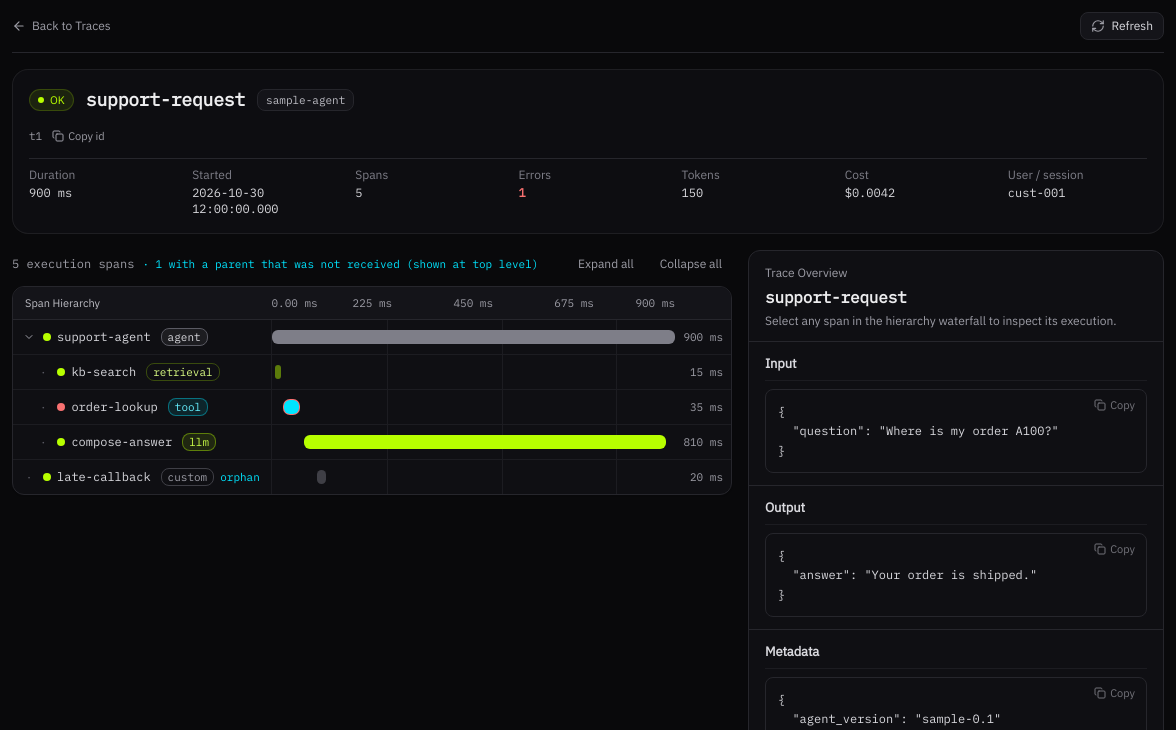
TraceDetailPage › shows LLM, tool, error and retrieval details only where present
This screenshot has width=1176, height=730.
Click the text "compose-answer".
click(122, 442)  # box [71,434,172,450]
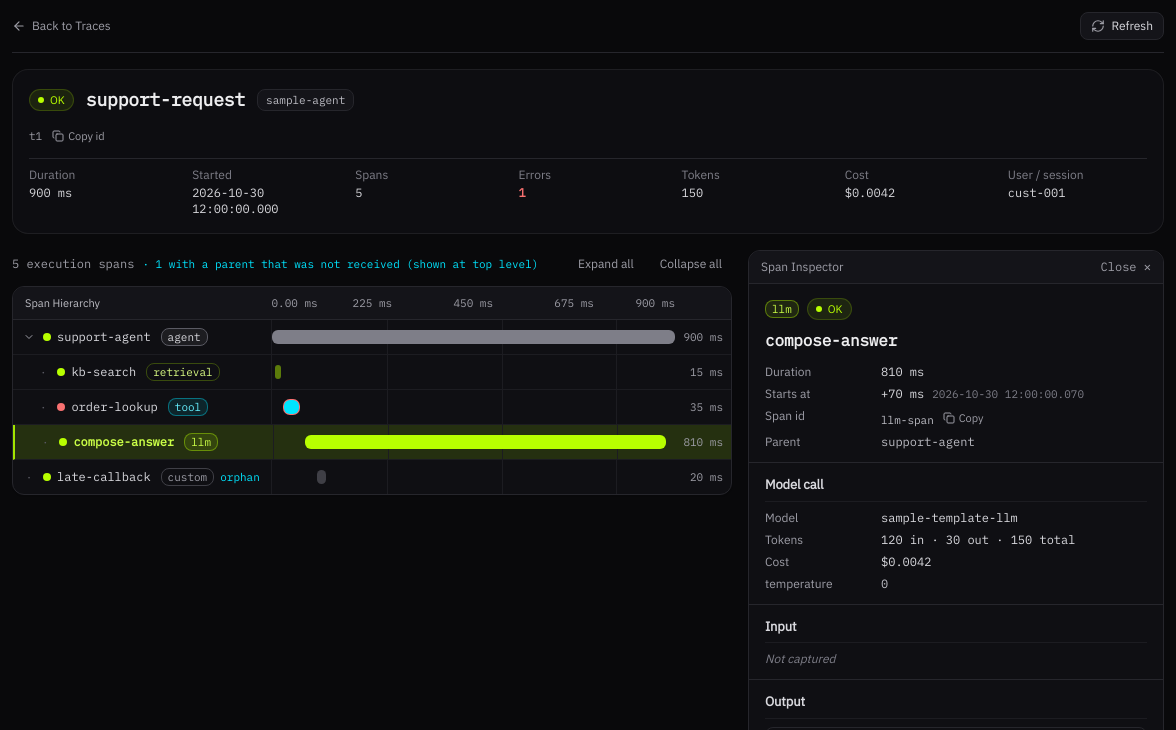
Now the element named "Span compose-answer" shows "Model call", box [765,476,823,493]
Now the element named "Span compose-answer" shows "sample-template-llm", box [881,510,1018,524]
Click the text "order-lookup".
click(115, 407)  # box [71,399,158,415]
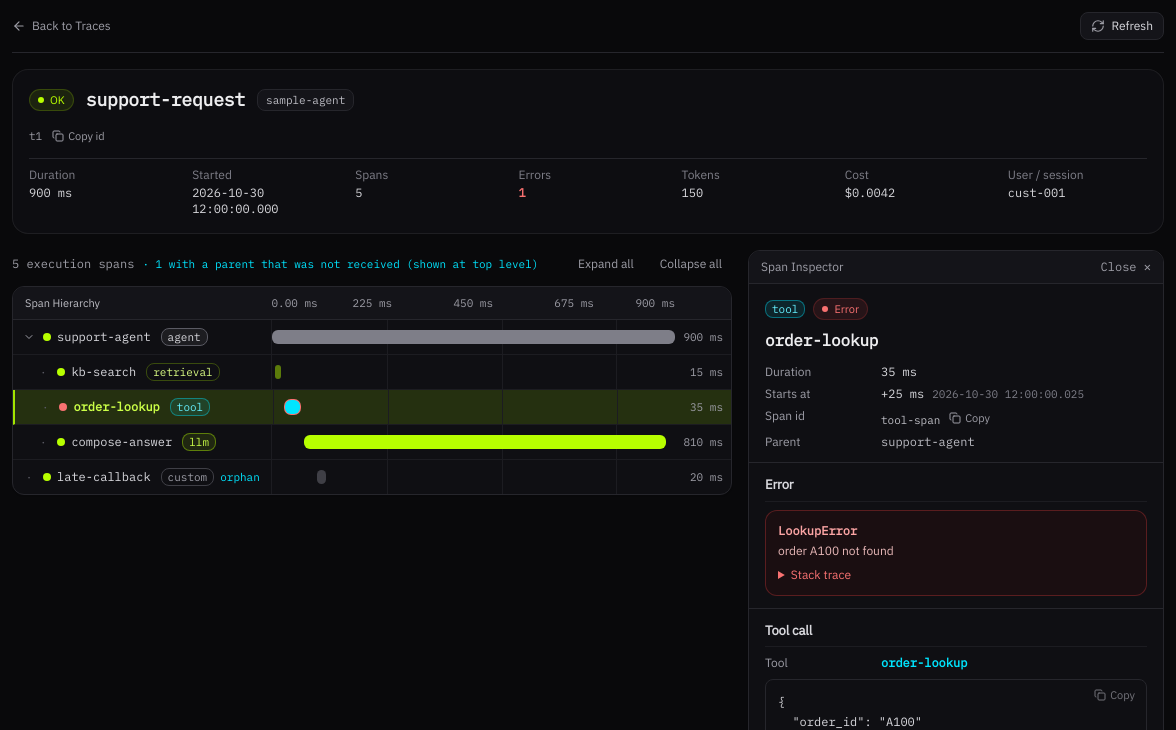
Now the element named "Span order-lookup" shows "LookupError", box [778,522,857,538]
Now the element named "Span order-lookup" shows "order A100 not found", box [778,542,894,558]
Now the element named "Span order-lookup" shows "Tool call", box [765,622,812,638]
Click the text "kb-search".
click(104, 372)  # box [71,364,136,380]
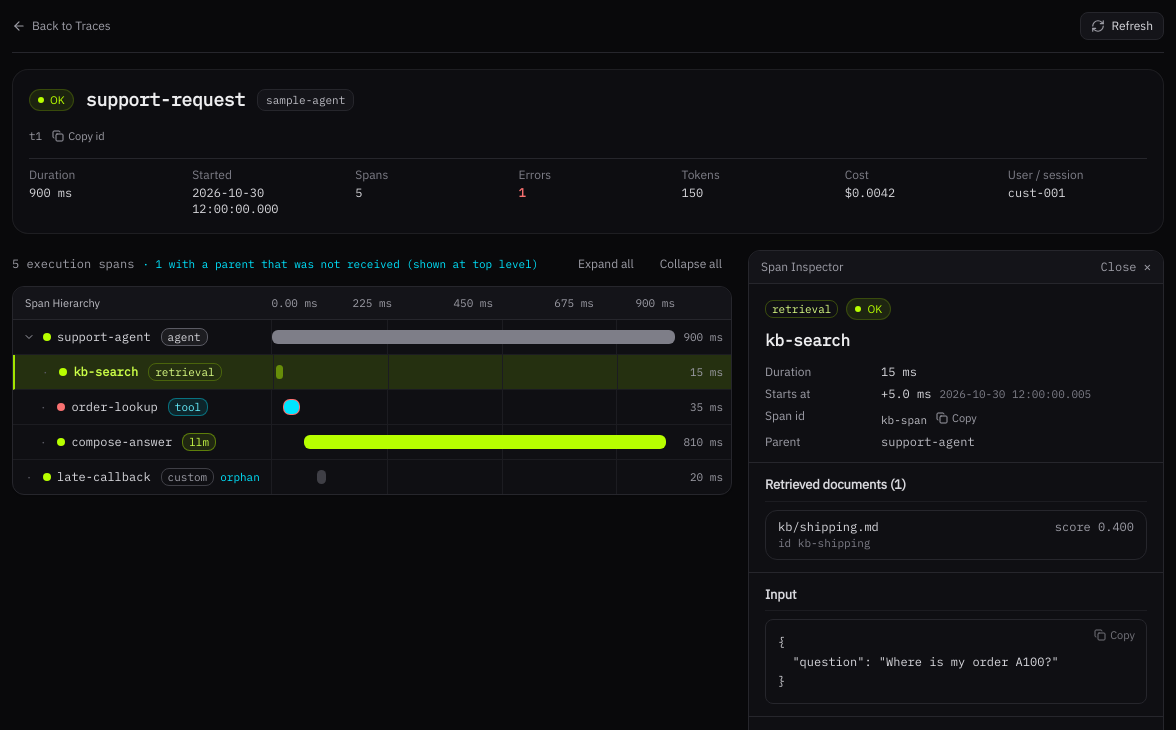
Now the element named "Span kb-search" shows "Retrieved documents (1)", box [765,476,906,493]
Now the element named "Span kb-search" shows "kb/shipping.md", box [778,518,879,534]
Click the text "late-callback".
click(104, 477)  # box [57,469,151,485]
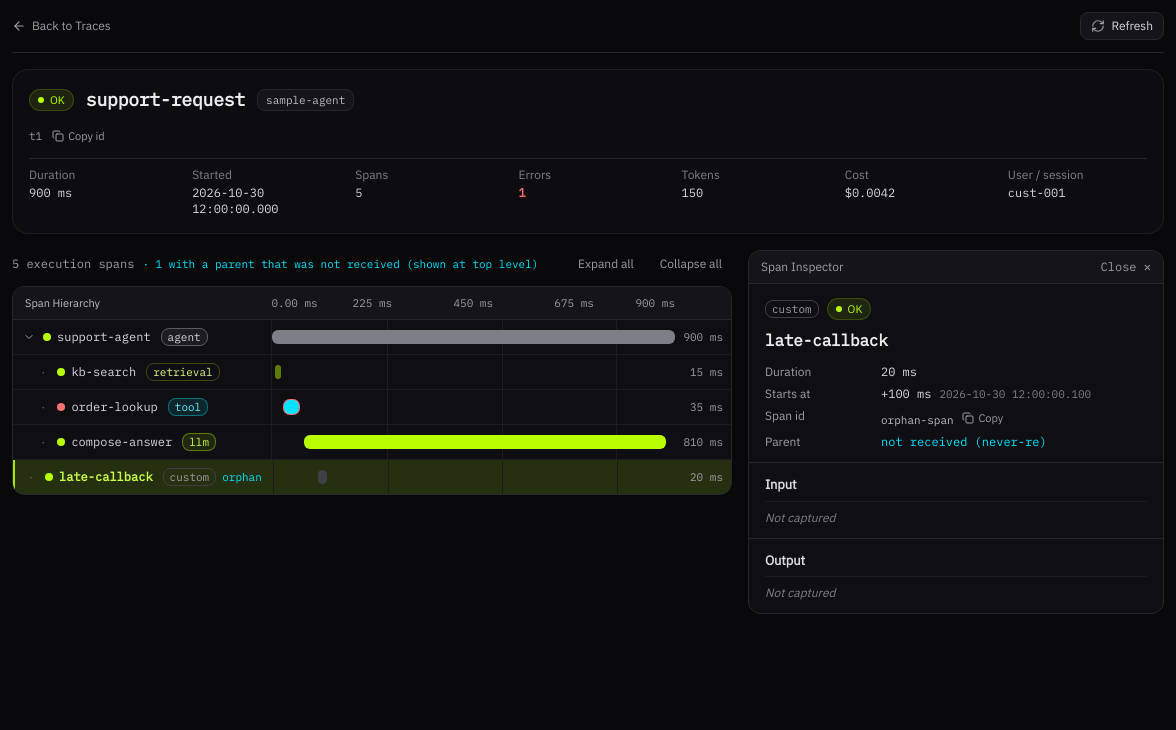
Now the element named "Span late-callback" shows "not received (never-r", box [749,284,1163,613]
